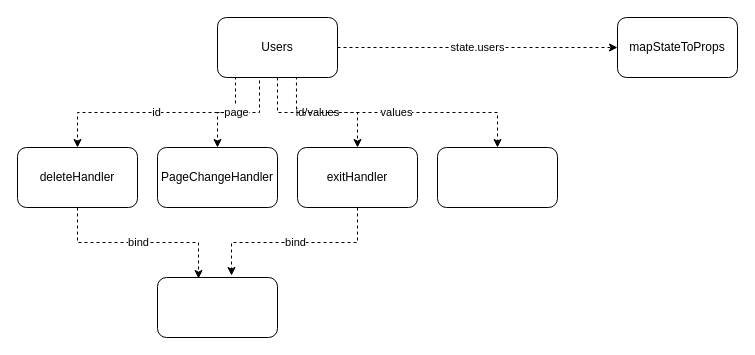
Some shapes in this 755 by 355 pixel diagram are drawn without their labels. Each missing label, with the centre of its shape:
column: [217,307]
createHandler: [497,177]
